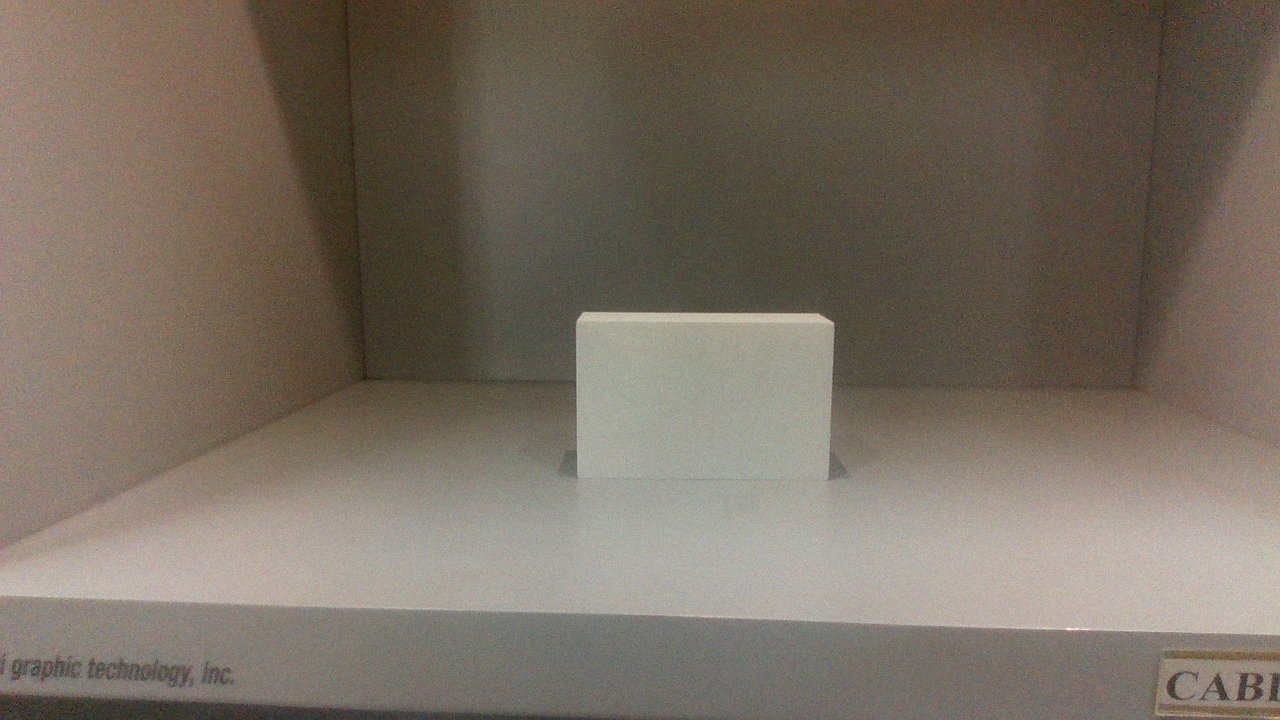Retangulo: (576, 312, 834, 479)
